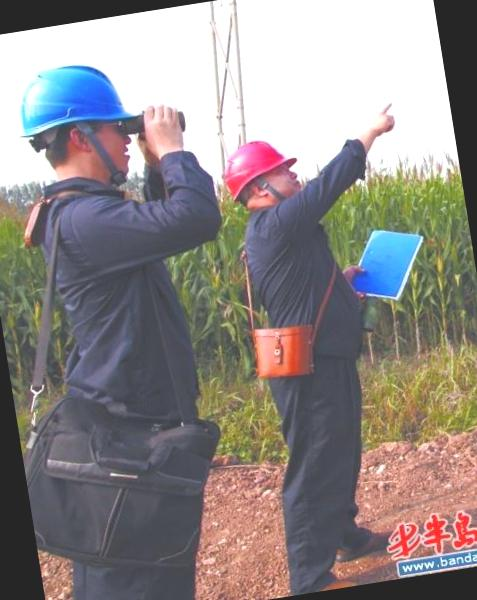helmet: (12, 53, 143, 142), (216, 130, 296, 194)
no_vest: (21, 160, 194, 407), (240, 192, 368, 366)
person: (0, 49, 258, 600), (218, 126, 402, 596)
